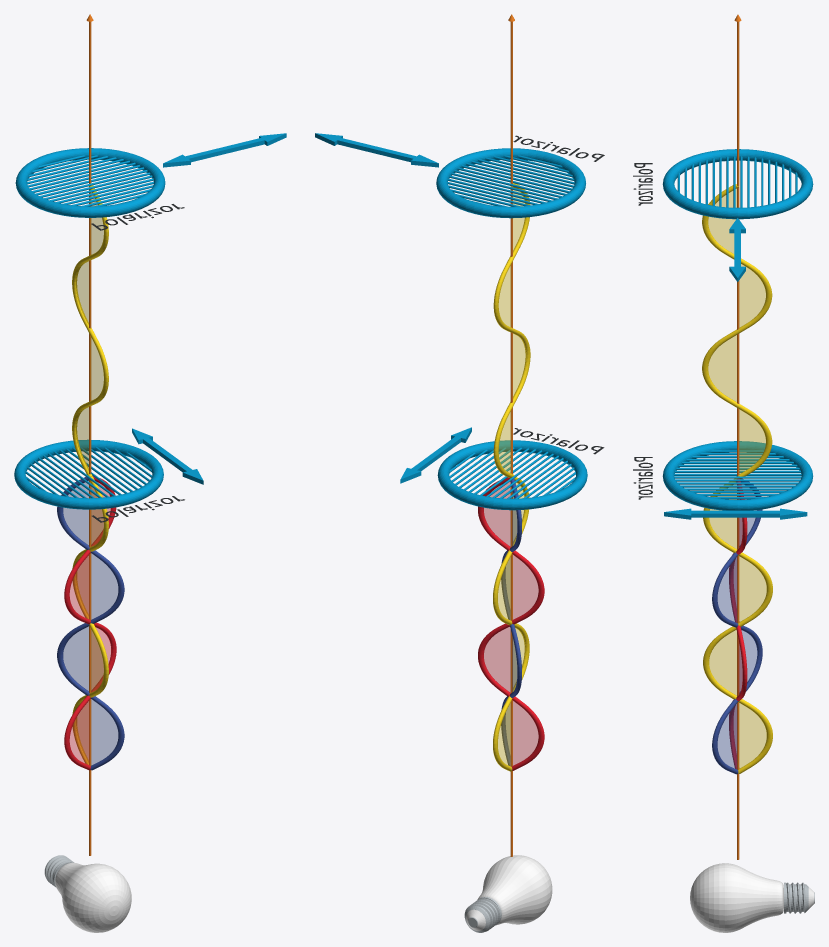
File: Lichtwellen.obj
3 views of the same model, side by side, from view 1: azimuth 30°, elevation 25°; view 2: azimuth 150°, elevation 25°; view 3: azimuth 270°, elevation 25° (orthographic).
Visible parts, largest first — view 1: group_0_40919, group_0_-1036298845, group_0_-1023419110, group_0_16448250, group_0_16768282, group_0_-1024910035, group_0_16089887, group_0_3888547, group_0_15277357, group_0_2829873; view 2: group_0_40919, group_0_-1024910035, group_0_16448250, group_0_-1023419110, group_0_16768282, group_0_16089887, group_0_15277357, group_0_3888547, group_0_-1036298845, group_0_12568524, group_0_2829873; view 3: group_0_40919, group_0_-1023419110, group_0_16448250, group_0_16768282, group_0_-1036298845, group_0_16089887, group_0_3888547, group_0_15277357, group_0_2829873, group_0_-1024910035, group_0_12568524.
Boxes of the visible parts, x1,y1,x2,y2 form: group_0_40919: (14,133,286,509); group_0_-1036298845: (63,481,117,764); group_0_-1023419110: (76,192,103,761); group_0_16448250: (55,862,131,932); group_0_16768282: (72,185,108,764); group_0_-1024910035: (70,483,111,764); group_0_16089887: (86,14,93,855); group_0_3888547: (57,477,124,770); group_0_15277357: (64,476,116,770); group_0_2829873: (91,204,184,522); group_0_40919: (315,133,587,510); group_0_-1024910035: (484,482,538,765); group_0_16448250: (466,855,552,930); group_0_-1023419110: (498,190,526,765); group_0_16768282: (493,183,530,771); group_0_16089887: (508,14,514,856); group_0_15277357: (478,477,544,770); group_0_3888547: (501,479,521,765); group_0_-1036298845: (504,491,516,760); group_0_12568524: (464,897,501,932); group_0_2829873: (513,135,604,454); group_0_40919: (662,149,813,519); group_0_-1023419110: (708,189,766,768); group_0_16448250: (690,863,814,932); group_0_16768282: (702,184,772,773); group_0_-1036298845: (718,493,757,768); group_0_16089887: (734,14,741,859); group_0_3888547: (712,478,762,774); group_0_15277357: (729,478,747,768); group_0_2829873: (633,163,652,499); group_0_-1024910035: (732,493,742,762); group_0_12568524: (784,882,814,913).
Bounding box in the file's own units: 132 × 436 × 78.61.
